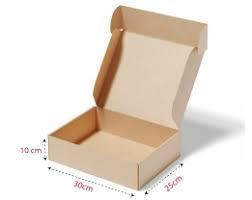box: (48, 5, 208, 190)
